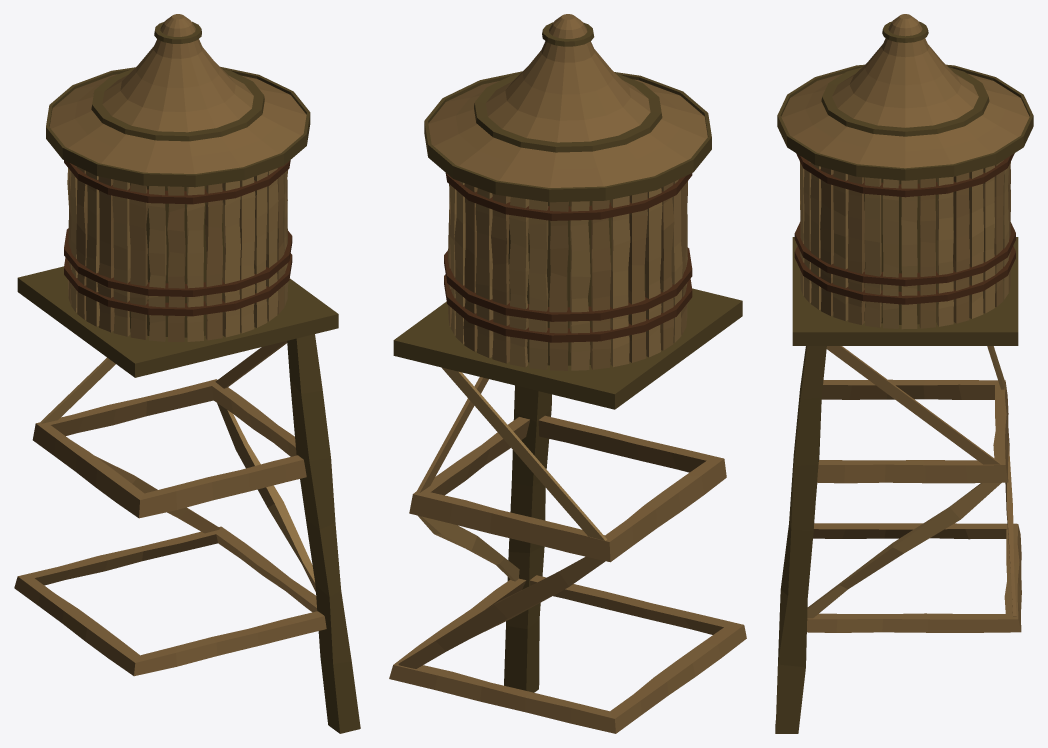
File: water_tower.glb
3 renders of one model, left to right at view 1: azimuth 30°, elevation 25°; view 2: azimuth 150°, elevation 25°; view 3: azimuth 270°, elevation 25°, orthographic. The views are drawn at different scales.
Parts seen in each view (by area): view 1: Cube; view 2: Cube; view 3: Cube.
Part boxes in pixels (box(x1,y1,x2,y2)): Cube: box(14, 14, 360, 733); Cube: box(389, 14, 746, 733); Cube: box(775, 14, 1033, 733).
Bounding box in the file's own units: 3.17 × 9.05 × 3.19.
